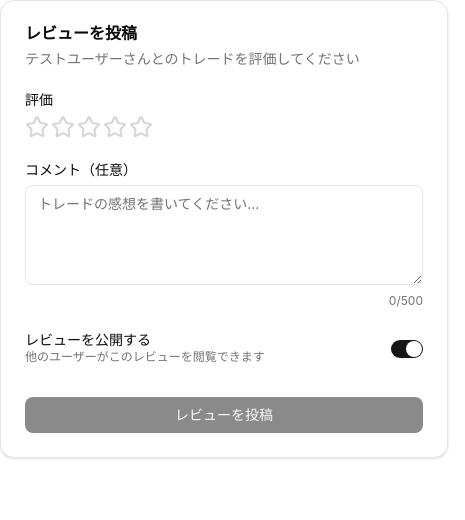
ReviewForm › フォーム送信 › 送信失敗時にエラーメッセージを表示する
Click the button named "5つ星" at (141, 127), box [129, 115, 153, 139]
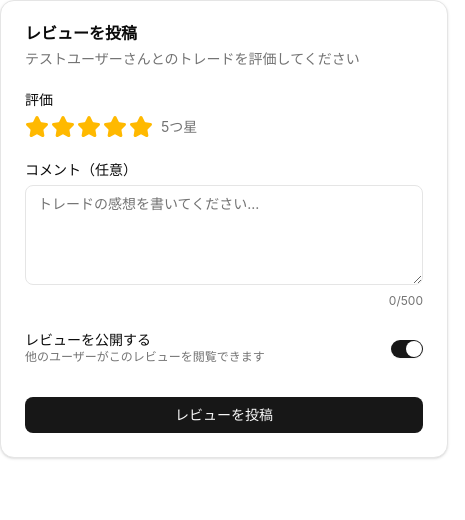
Click the button "レビューを投稿" at (224, 415), box [25, 397, 423, 433]
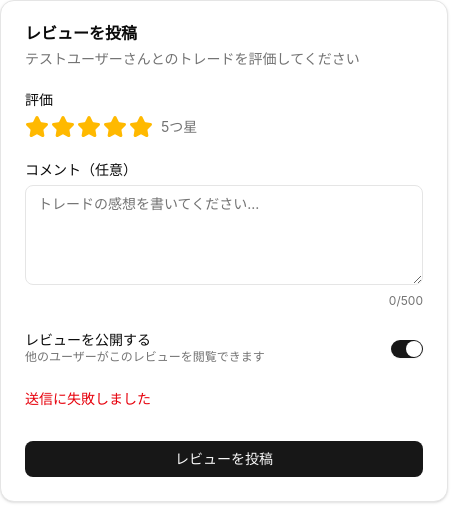
Expected: the message reads "送信に失敗しました", [25, 390, 151, 407]
